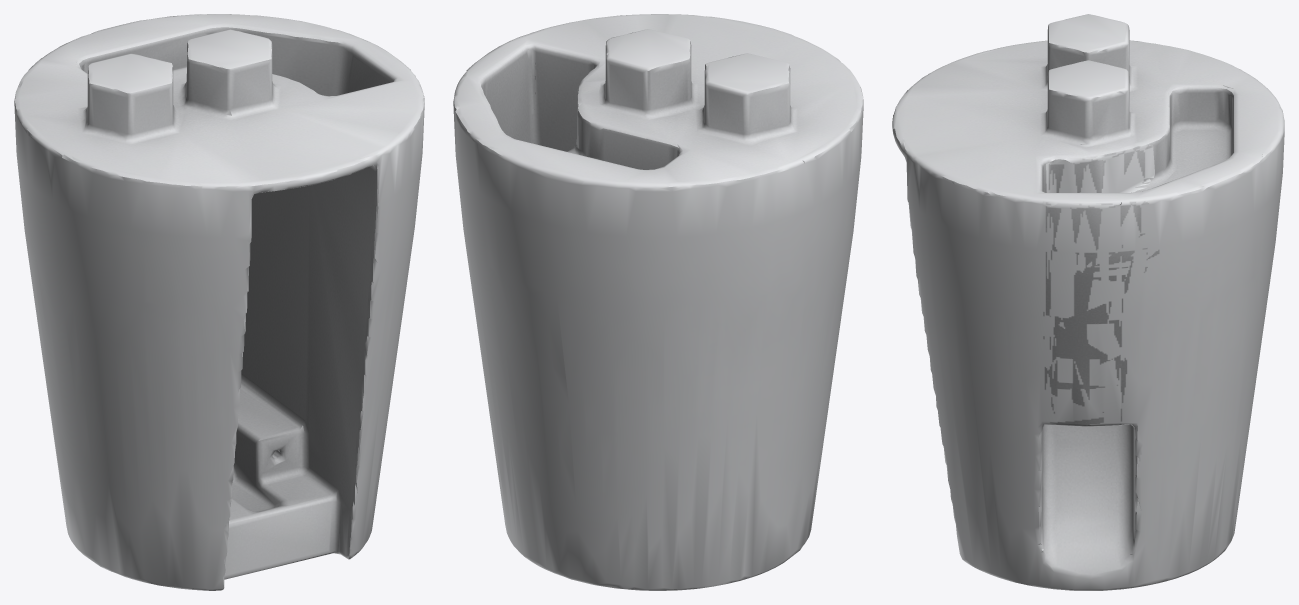
File: left_bisecp_lower.glb
3 renders of one model, left to right at view 1: azimuth 30°, elevation 25°; view 2: azimuth 150°, elevation 25°; view 3: azimuth 270°, elevation 25°, orthographic. The views are drawn at different scales.
Parts seen in each view (by area): view 1: left_bisecp_lower; view 2: left_bisecp_lower; view 3: left_bisecp_lower.
Boxes of the visible parts, <box> form: left_bisecp_lower: <box>14,14,424,590</box>; left_bisecp_lower: <box>453,14,863,590</box>; left_bisecp_lower: <box>892,14,1284,590</box>.
Bounding box in the file's own units: 0.0753 × 0.0967 × 0.0753.
Materials: 1 (1 with a texture image).
